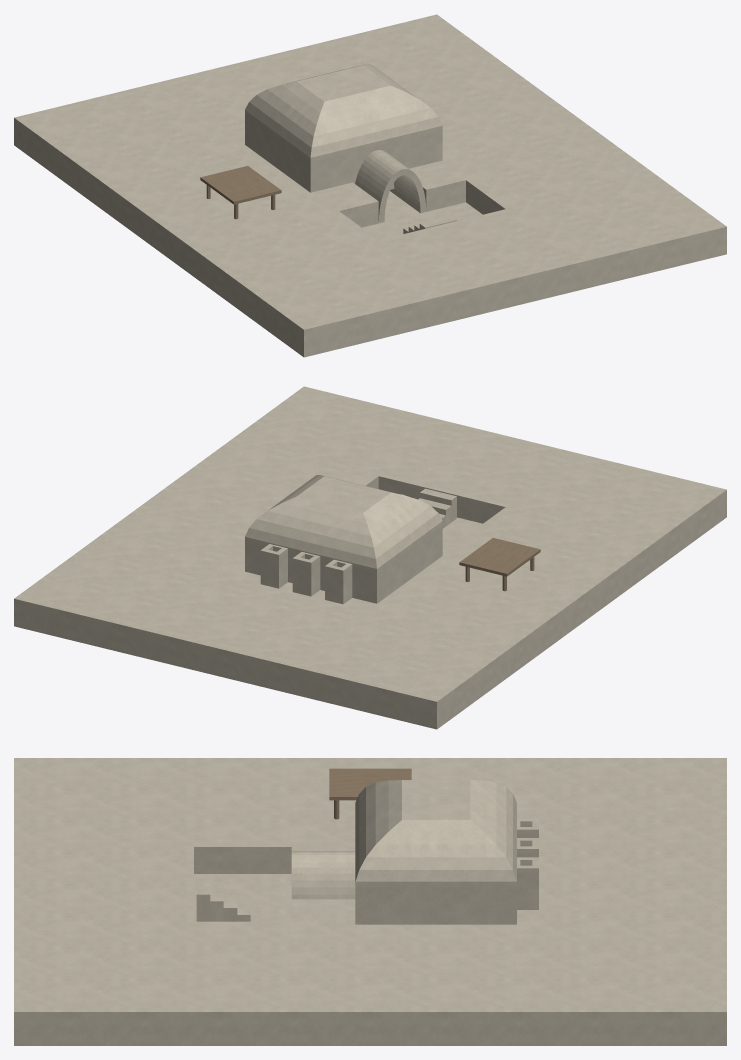
The model's file is kiln-B-LOD1.glb.
The picture shows the model from 3 angles, top to bottom: view 1: azimuth 30°, elevation 25°; view 2: azimuth 150°, elevation 25°; view 3: azimuth 270°, elevation 25°; orthographic projection. The views are drawn at different scales.
Visible parts, largest first — view 1: B_presentation_ground, B_detachable_roof_C, B_chamber_walls, B_fire_hood, B_blank_drying_board_C, B_operation_pit_floor, B_fire_floor; view 2: B_presentation_ground, B_detachable_roof_C, B_chamber_walls, B_blank_drying_board_C, B_short_flue.001, B_short_flue, B_short_flue.002; view 3: B_presentation_ground, B_detachable_roof_C, B_chamber_walls, B_fire_hood, B_operation_pit_floor, B_blank_drying_board_C, B_short_flue.002, B_pit_access_step, B_pit_access_step.001, B_pit_access_step.002.
Part boxes in pixels (left/top/right/bottom): B_presentation_ground: left=14, top=14, right=726, bottom=357; B_detachable_roof_C: left=245, top=63, right=442, bottom=157; B_chamber_walls: left=245, top=110, right=442, bottom=192; B_fire_hood: left=355, top=150, right=426, bottom=223; B_blank_drying_board_C: left=200, top=166, right=281, bottom=204; B_operation_pit_floor: left=362, top=202, right=482, bottom=239; B_fire_floor: left=384, top=191, right=419, bottom=221; B_presentation_ground: left=14, top=386, right=726, bottom=729; B_detachable_roof_C: left=245, top=475, right=442, bottom=568; B_chamber_walls: left=245, top=521, right=442, bottom=603; B_blank_drying_board_C: left=459, top=538, right=540, bottom=576; B_short_flue.001: left=292, top=552, right=320, bottom=596; B_short_flue: left=325, top=559, right=352, bottom=604; B_short_flue.002: left=260, top=544, right=287, bottom=588; B_presentation_ground: left=14, top=758, right=726, bottom=1045; B_detachable_roof_C: left=355, top=780, right=516, bottom=881; B_chamber_walls: left=355, top=881, right=516, bottom=924; B_fire_hood: left=291, top=851, right=355, bottom=899; B_operation_pit_floor: left=194, top=874, right=291, bottom=922; B_blank_drying_board_C: left=329, top=768, right=411, bottom=800; B_short_flue.002: left=517, top=857, right=538, bottom=909; B_pit_access_step: left=196, top=875, right=210, bottom=921; B_pit_access_step.001: left=210, top=882, right=223, bottom=921; B_pit_access_step.002: left=223, top=889, right=237, bottom=921.
Bounding box in the file's own units: 16 × 3.54 × 19.
2 materials, 2 textured.
